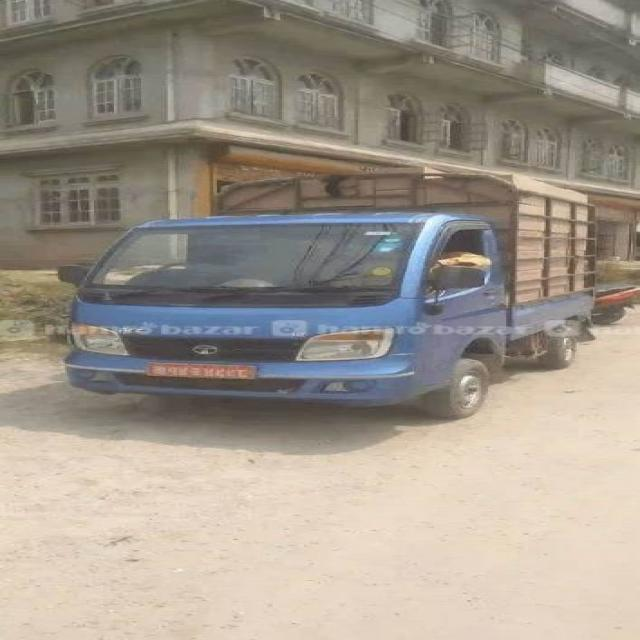License-plate: (145, 358, 264, 384)
